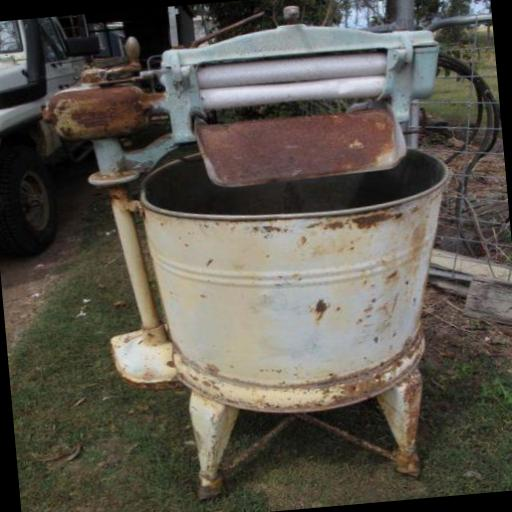corrosion: (197, 103, 407, 189), (317, 322, 438, 419), (222, 408, 397, 474), (42, 78, 167, 144), (296, 408, 402, 465), (353, 203, 402, 232), (312, 298, 330, 317)
